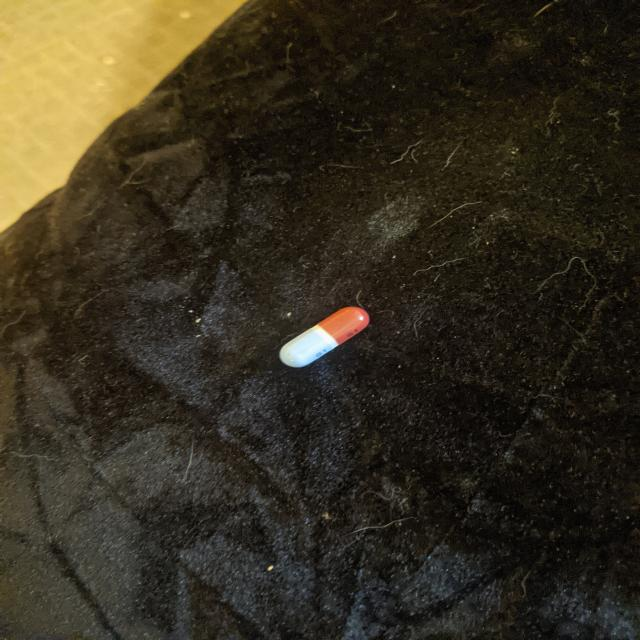non-organic waste: (277, 304, 372, 369)
